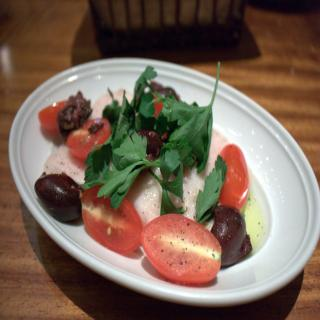tomato: (140, 209, 224, 283), (82, 190, 147, 261), (219, 142, 249, 213), (67, 117, 111, 155), (146, 90, 168, 139), (38, 98, 69, 132)
